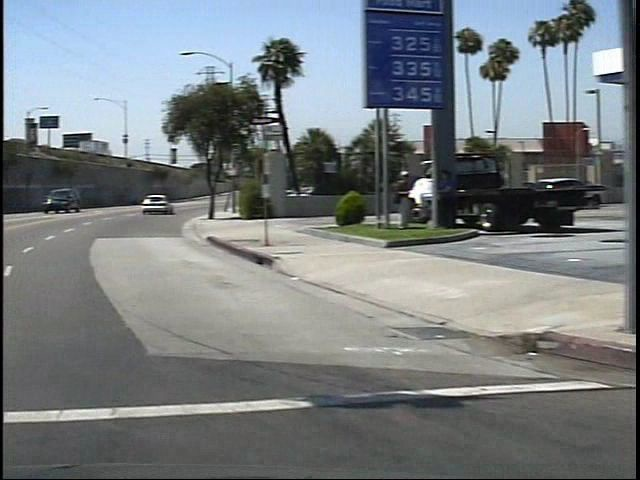person: (381, 164, 408, 231)
